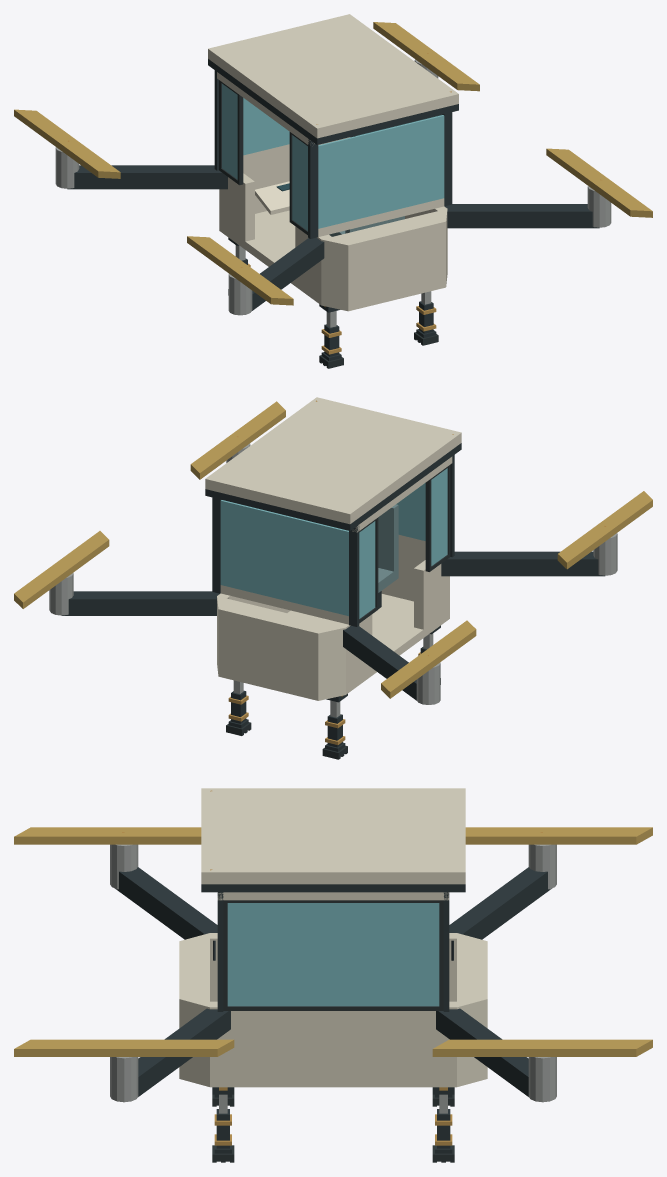
3 renders of one model, top to bottom at view 1: azimuth 30°, elevation 25°; view 2: azimuth 150°, elevation 25°; view 3: azimuth 270°, elevation 25°, orthographic. The views are drawn at different scales.
Visible parts, largest first — view 1: 分离舱窗、真实侧门与独立密封, 连续斜置支臂、静态轮毂与两米旋翼 (×4), 连续倒角机身与真实足舱, 四旋翼落地支脚 (×2), 低操纵台与单座静态舱内; view 2: 分离舱窗、真实侧门与独立密封, 连续斜置支臂、静态轮毂与两米旋翼 (×4), 连续倒角机身与真实足舱, 四旋翼落地支脚 (×2), 低操纵台与单座静态舱内; view 3: 分离舱窗、真实侧门与独立密封, 连续斜置支臂、静态轮毂与两米旋翼 (×4), 连续倒角机身与真实足舱, 四旋翼落地支脚 (×2).
Boxes of the visible parts, x1,y1,x2,y2 form: 分离舱窗、真实侧门与独立密封: [208, 14, 458, 238]; 连续斜置支臂、静态轮毂与两米旋翼 (×4): [14, 22, 652, 315]; 连续倒角机身与真实足舱: [219, 152, 447, 311]; 四旋翼落地支脚 (×2): [319, 291, 438, 368]; 低操纵台与单座静态舱内: [255, 181, 404, 236]; 分离舱窗、真实侧门与独立密封: [205, 397, 461, 626]; 连续斜置支臂、静态轮毂与两米旋翼 (×4): [14, 401, 652, 704]; 连续倒角机身与真实足舱: [217, 543, 449, 700]; 四旋翼落地支脚 (×2): [226, 680, 347, 759]; 低操纵台与单座静态舱内: [378, 504, 398, 608]; 分离舱窗、真实侧门与独立密封: [201, 788, 465, 1011]; 连续斜置支臂、静态轮毂与两米旋翼 (×4): [14, 827, 652, 1102]; 连续倒角机身与真实足舱: [179, 933, 487, 1087]; 四旋翼落地支脚 (×2): [212, 1087, 454, 1162].
Bounding box in the file's own units: 4.82 × 3 × 5.8.
11 materials, 11 textured.
